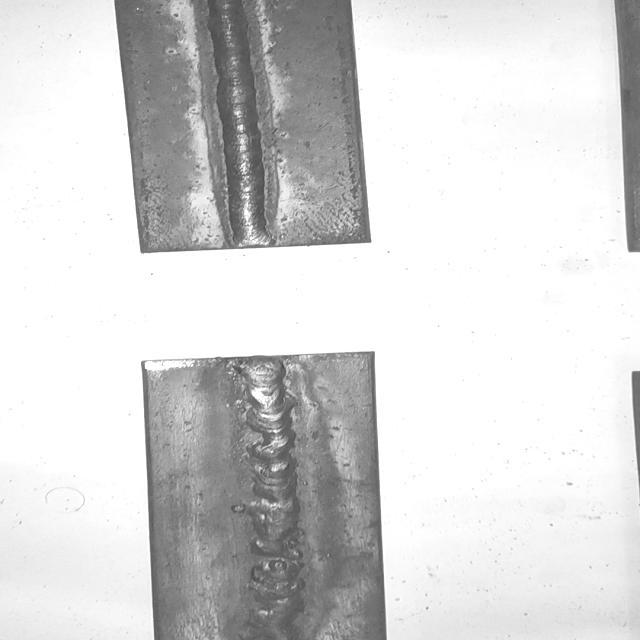Defect: (232, 538, 324, 584)
Welding Line: (202, 0, 280, 250), (238, 355, 302, 640)
Workpiece: (132, 344, 400, 640), (110, 0, 383, 258)
